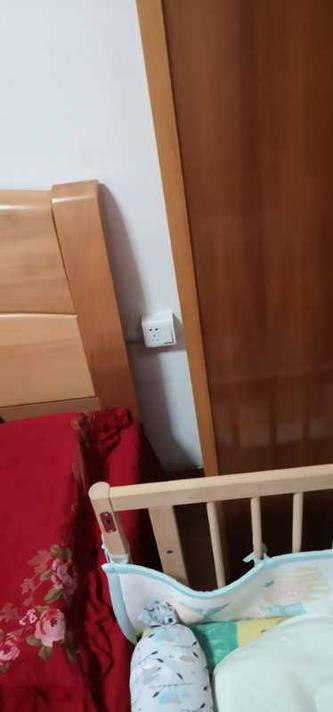switch: (161, 332, 171, 345)
